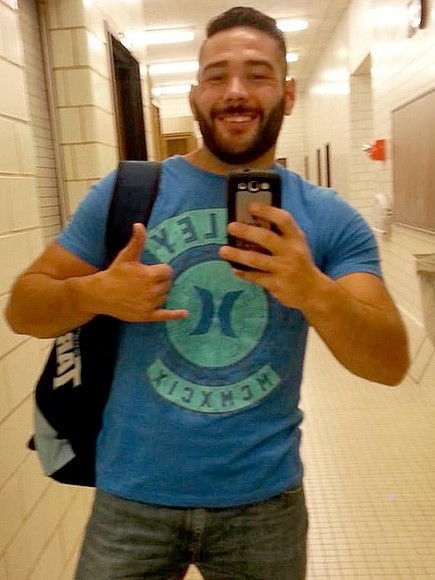face_no_mask: (188, 6, 295, 161)
